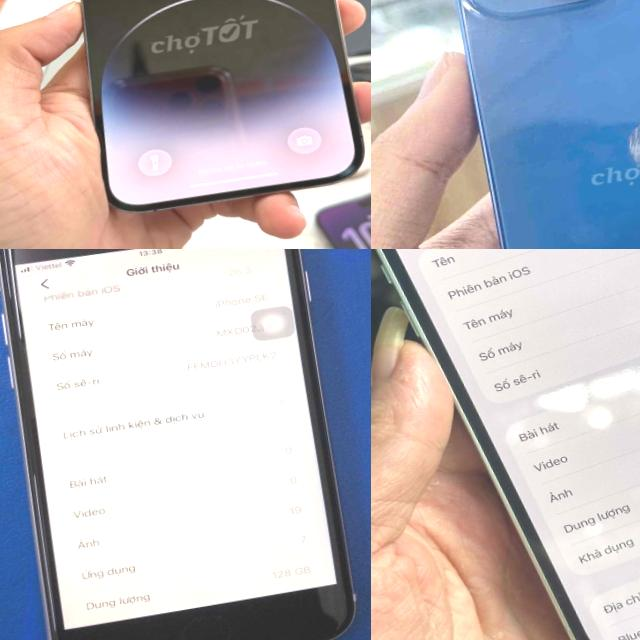gen_12_13: (371, 249, 640, 640), (438, 0, 640, 249)
gen_14: (30, 0, 371, 231)
gen_7_8: (0, 249, 353, 640)
